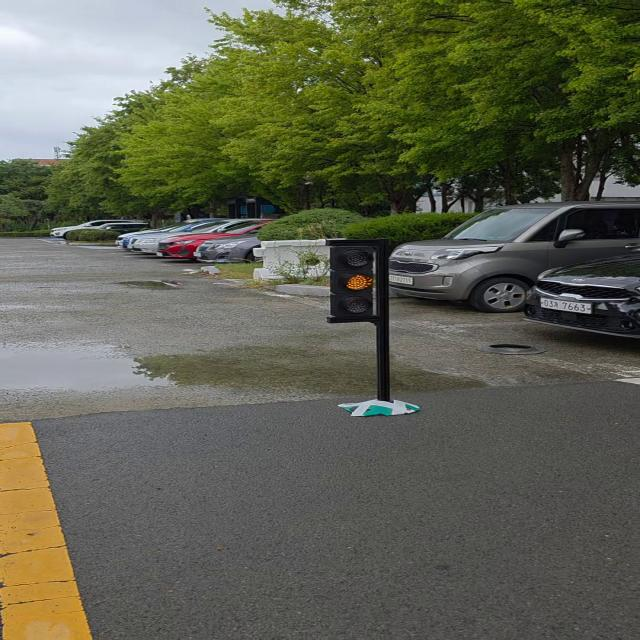yellow: (329, 238, 382, 320)
